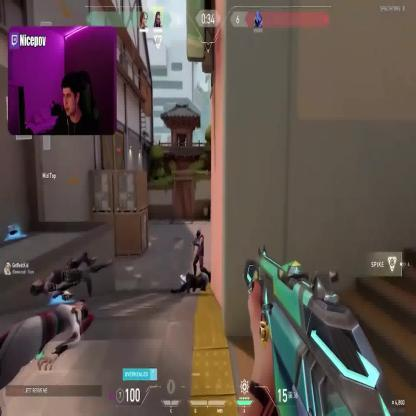enemy: (190, 228, 212, 284)
enemy_head: (196, 230, 202, 238)
